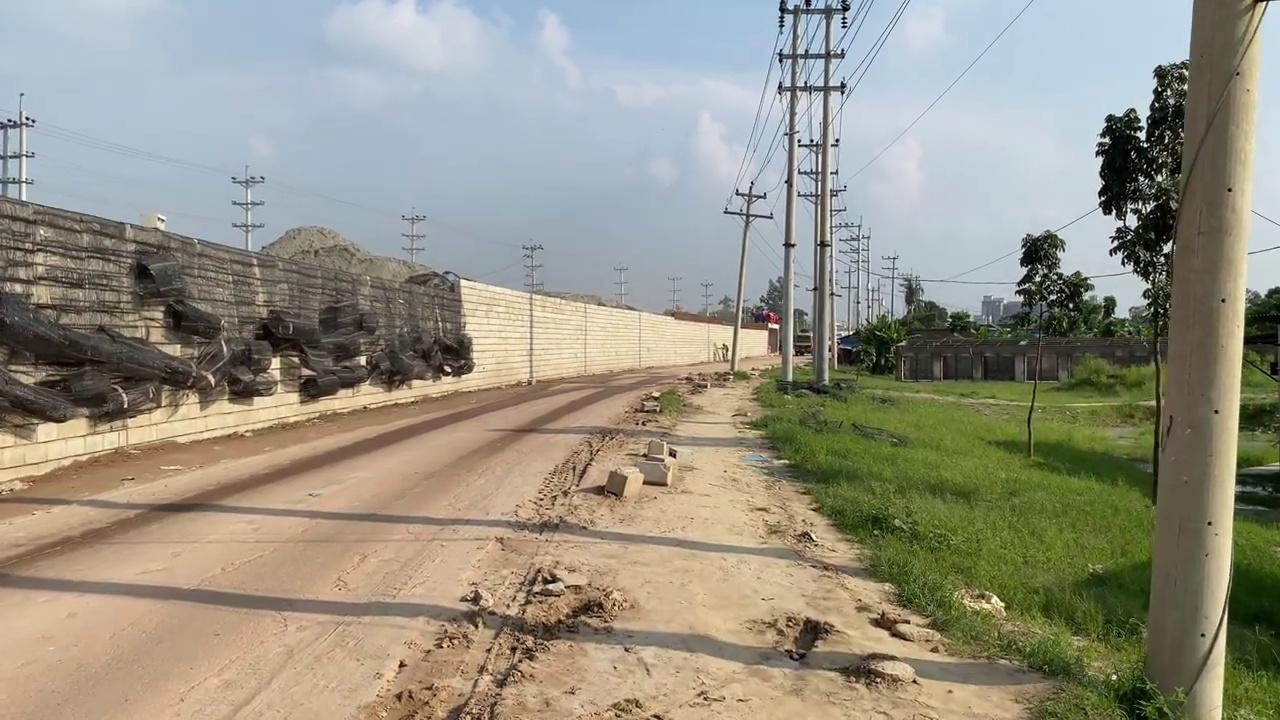Muddy road: (1, 354, 1058, 718)
Obstacle: (635, 437, 677, 486), (603, 465, 644, 500)
Pole: (1142, 0, 1266, 719), (776, 3, 801, 389), (812, 4, 834, 387)
Traffic-sign: (1005, 228, 1094, 458)
Upstairs: (0, 193, 774, 484)
